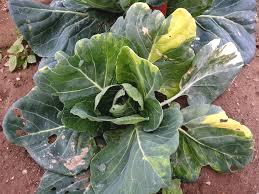Bok-Choy-Diseased: (2, 85, 96, 168), (128, 7, 203, 83), (173, 109, 249, 173)
